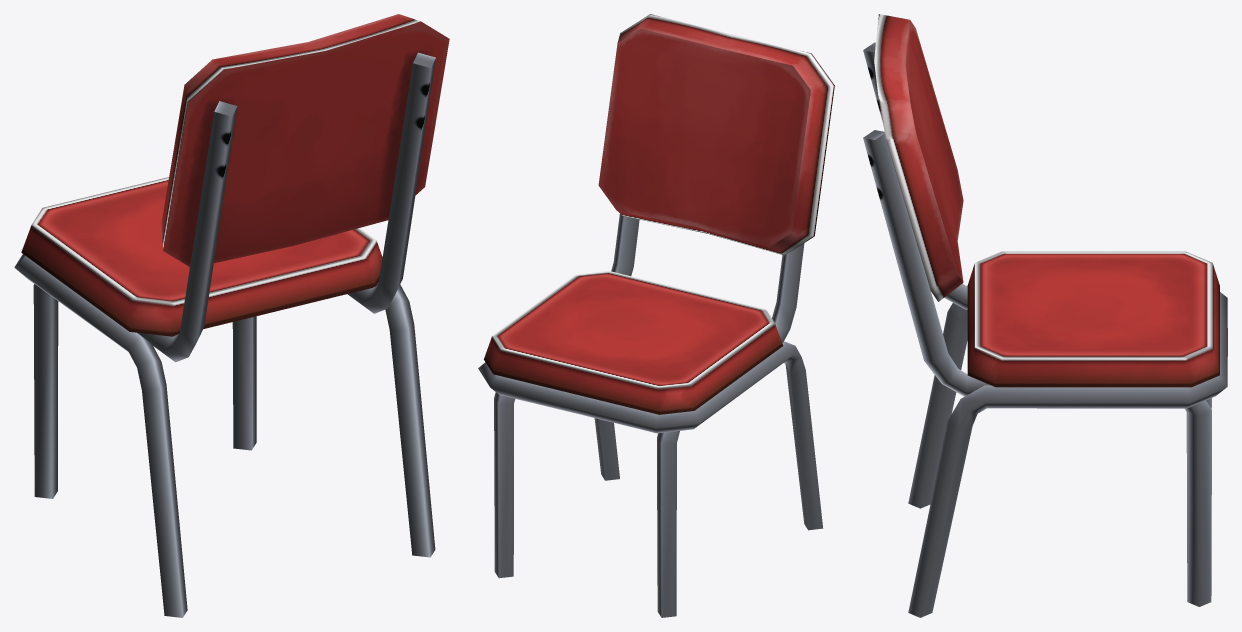
Rendered from FUR0110008.fbx.
The picture shows the model from 3 angles, left to right: view 1: azimuth 30°, elevation 25°; view 2: azimuth 150°, elevation 25°; view 3: azimuth 270°, elevation 25°; orthographic projection. The views are drawn at different scales.
Visible parts, largest first — view 1: smFUR0110008; view 2: smFUR0110008; view 3: smFUR0110008.
Boxes of the visible parts, x1=… form: smFUR0110008: x1=14, y1=14, x2=449, y2=617; smFUR0110008: x1=478, y1=14, x2=834, y2=617; smFUR0110008: x1=863, y1=14, x2=1227, y2=617.
Size of the model in its own units: 65.21 by 127 by 83.7.
1 material, 1 textured.
